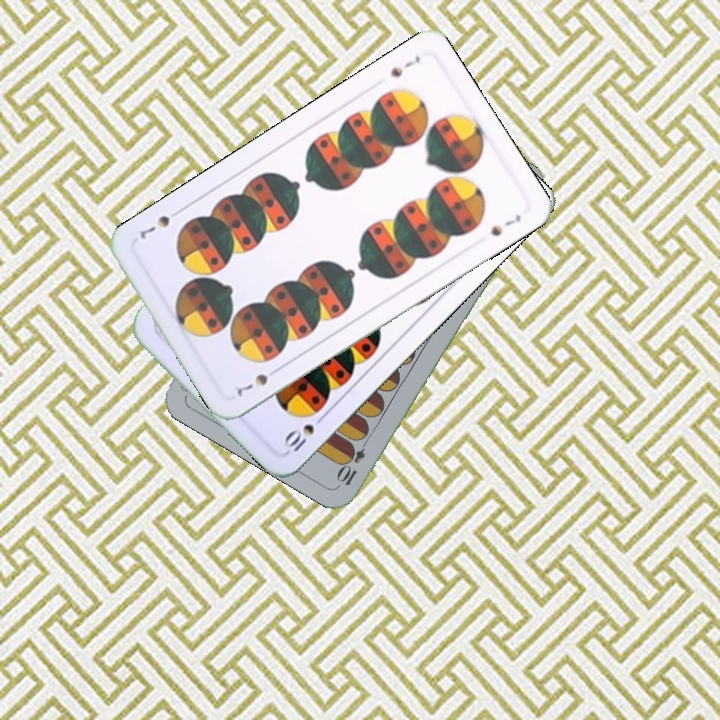E10: (334, 432, 372, 488)
S10: (278, 409, 329, 457)
S7: (232, 363, 283, 399), (386, 51, 423, 80)
